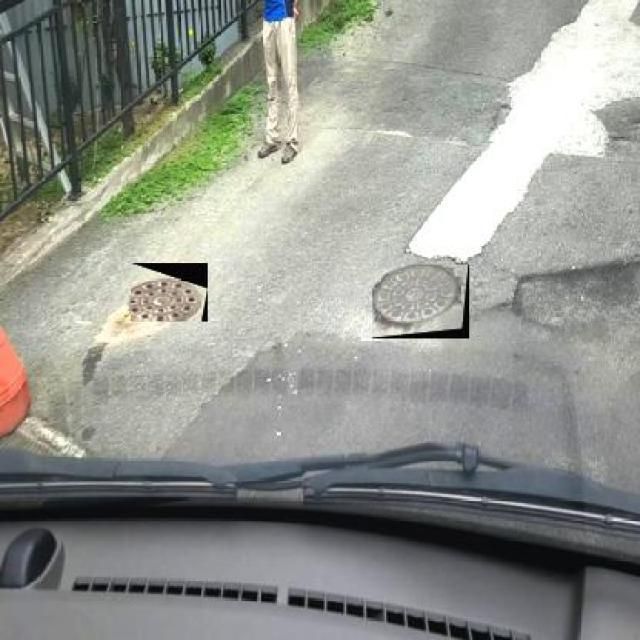Manhole: (372, 264, 470, 338), (130, 263, 208, 322)
Pothole: (507, 249, 640, 361), (488, 101, 518, 134), (603, 132, 638, 150)
